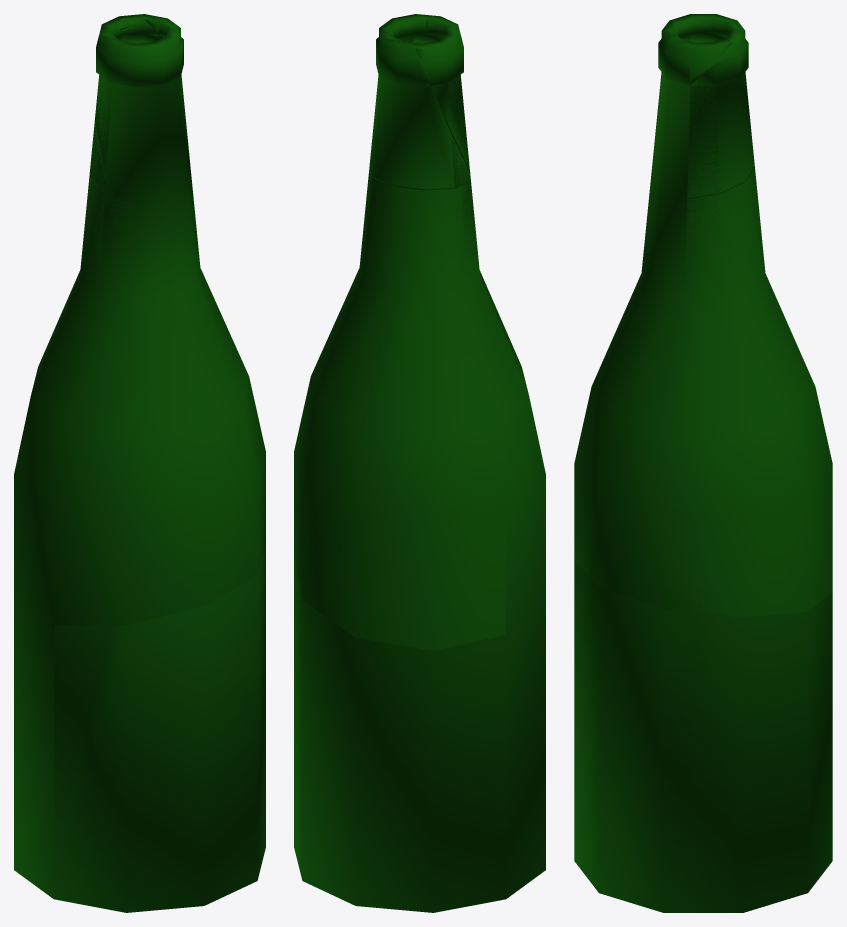
Rendered from Green Bottle 1.fbx.
3 views of the same model, side by side, from view 1: azimuth 30°, elevation 25°; view 2: azimuth 150°, elevation 25°; view 3: azimuth 270°, elevation 25° (orthographic).
Parts seen in each view (by area): view 1: Green Bottle 1, Cell 3, Cell 4, Cell 1, Cell 2; view 2: Green Bottle 1, Cell 4, Cell 2, Cell 1; view 3: Green Bottle 1, Cell 4, Cell 3, Cell 2, Cell 5.
Boxes of the visible parts, box(x1,y1,x2,y2) form: Green Bottle 1: box(14, 14, 265, 900); Cell 3: box(14, 545, 265, 912); Cell 4: box(31, 177, 198, 555); Cell 1: box(95, 25, 116, 180); Cell 2: box(89, 14, 162, 191); Green Bottle 1: box(294, 14, 545, 912); Cell 4: box(294, 170, 515, 650); Cell 2: box(369, 37, 470, 189); Cell 1: box(415, 20, 469, 170); Green Bottle 1: box(574, 14, 832, 912); Cell 4: box(646, 168, 832, 617); Cell 3: box(574, 560, 743, 912); Cell 2: box(687, 25, 754, 198); Cell 5: box(666, 35, 732, 81).
Size of the model in its own units: 0.3972 by 1.48 by 0.4177.
